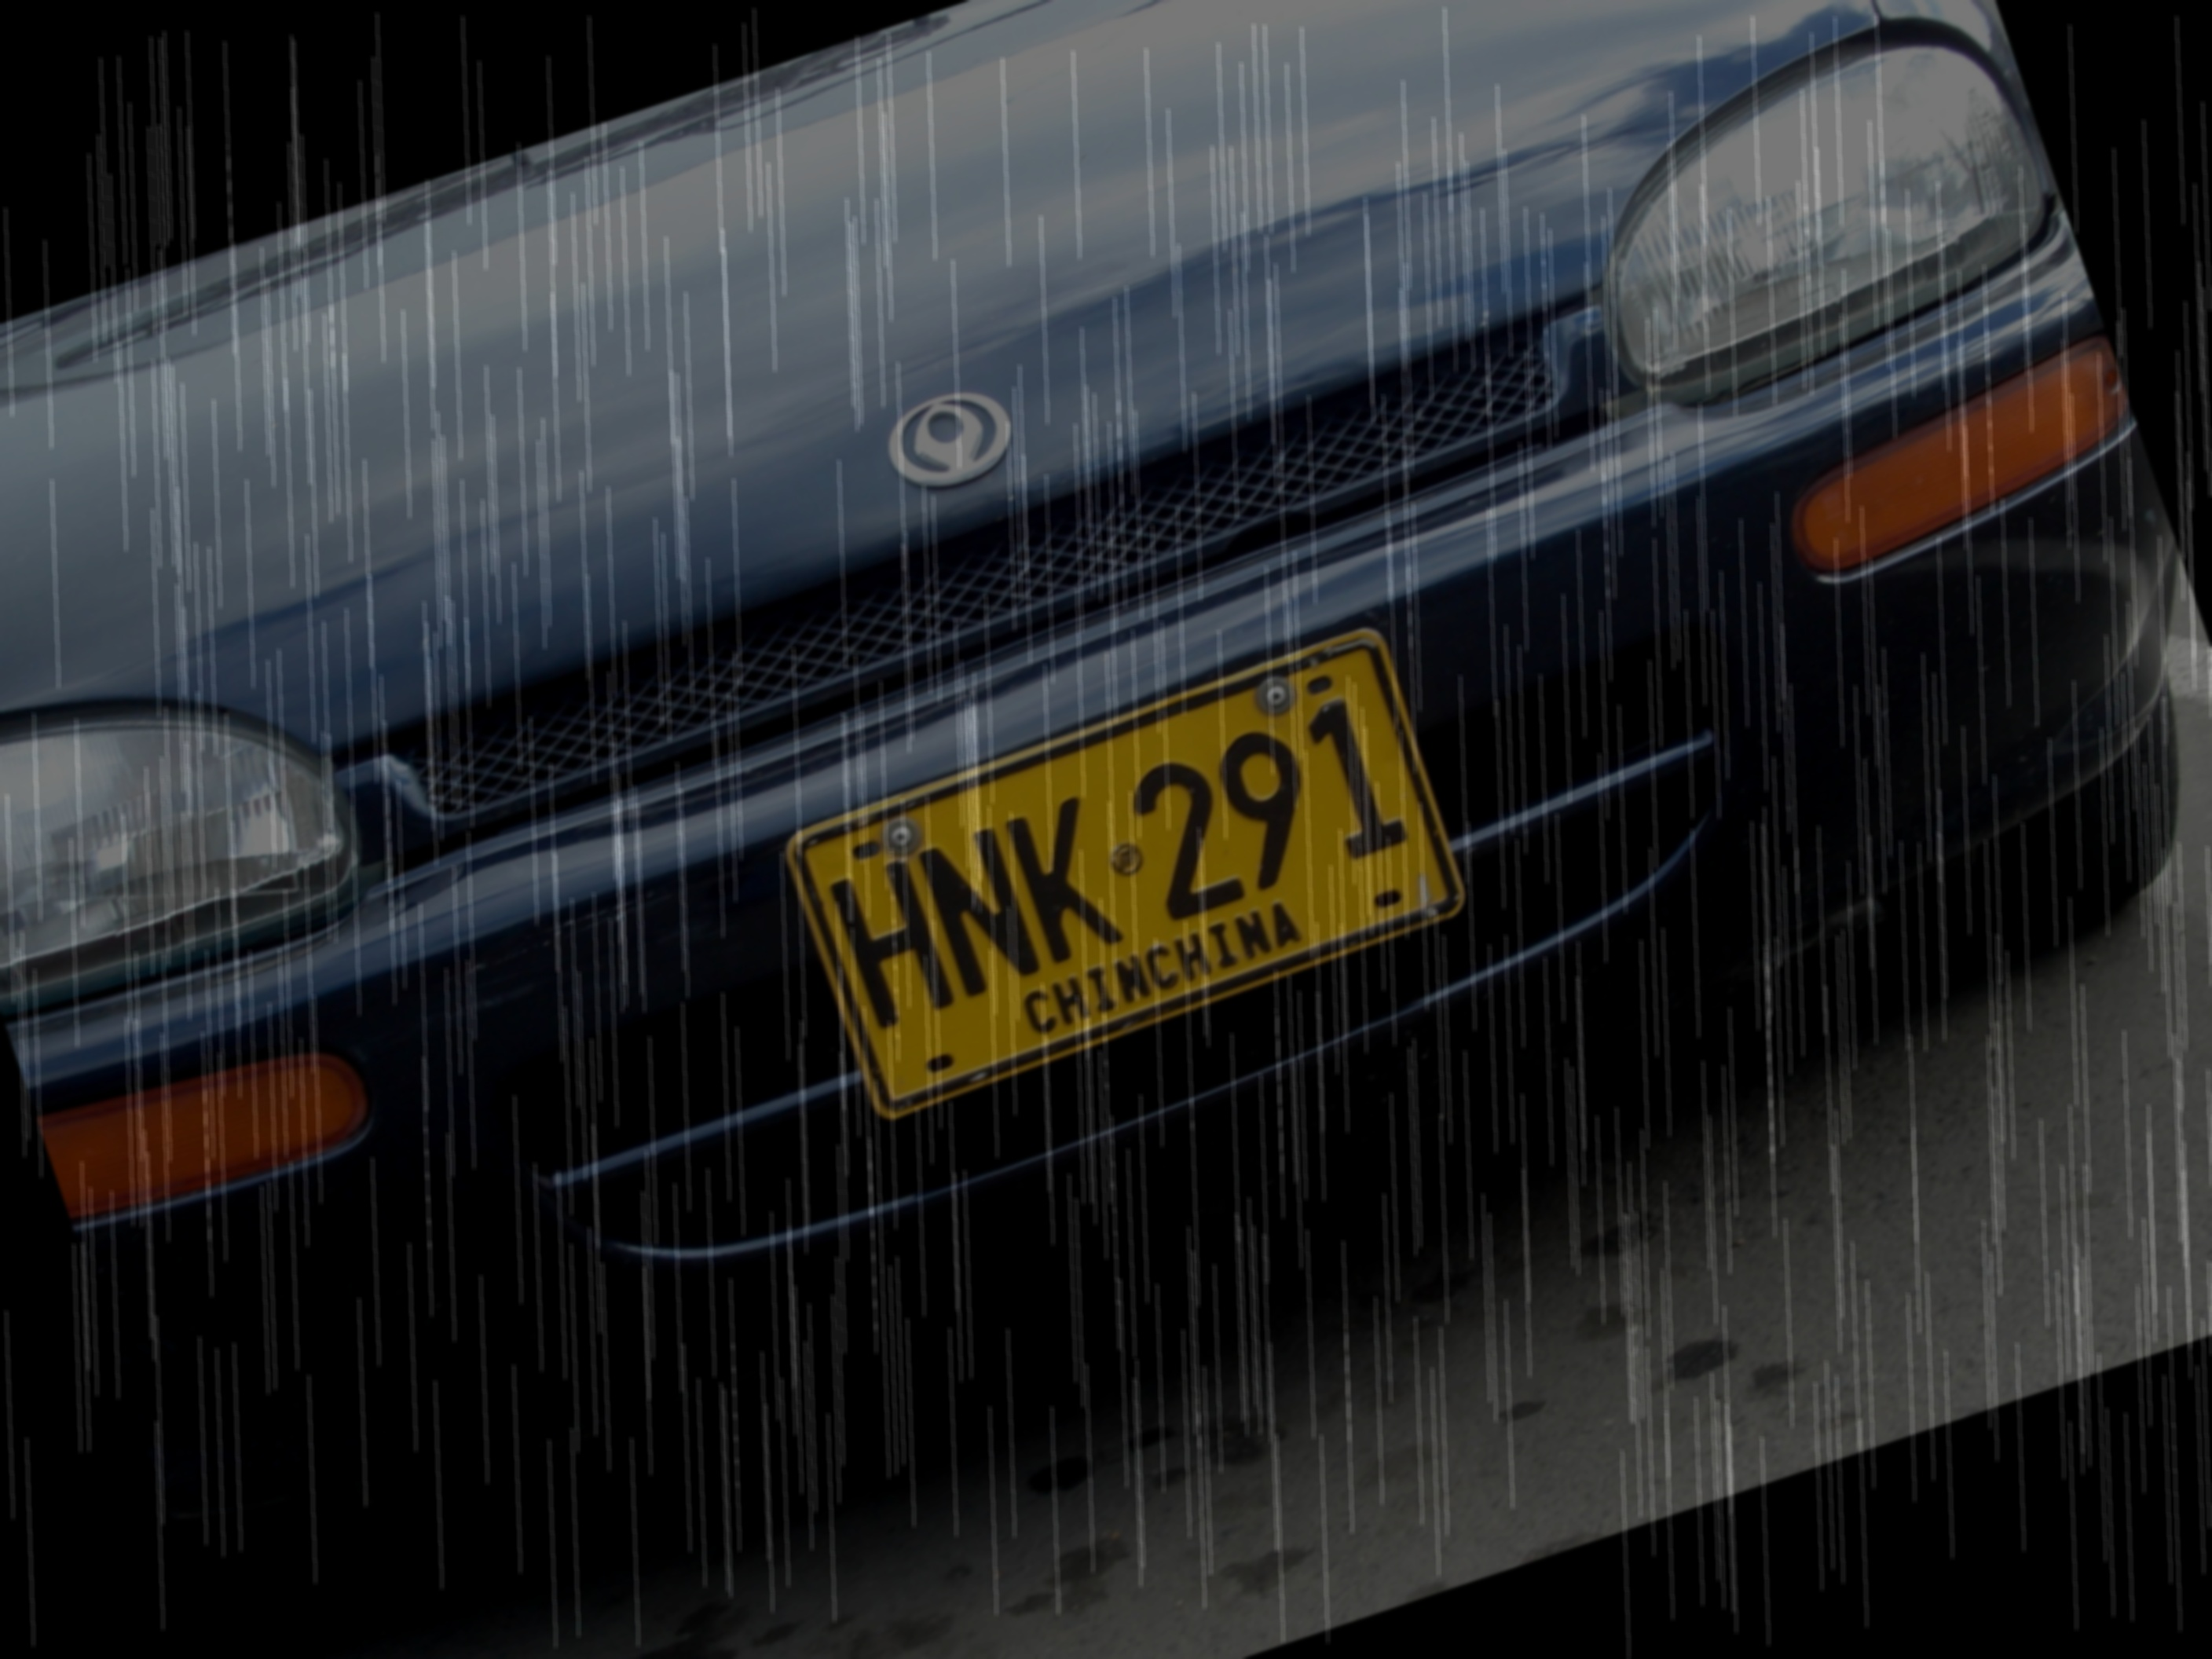placas: (744, 602, 1492, 1143)
